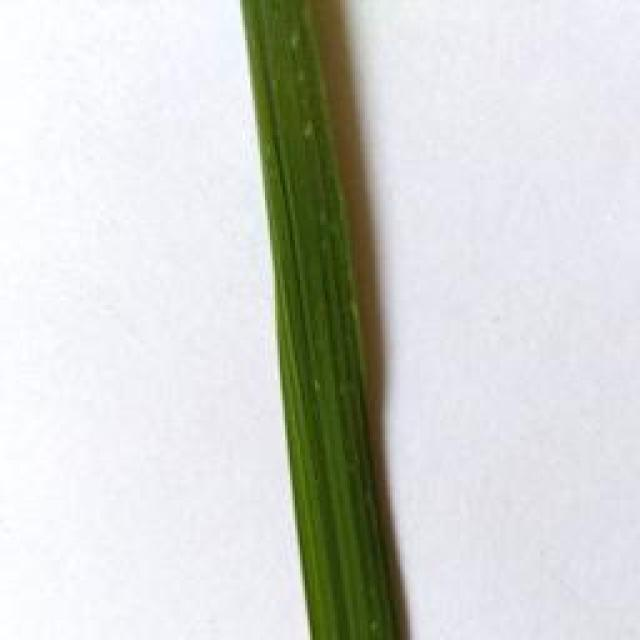Healthy-Plant: (228, 0, 417, 640)
